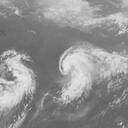cyclone: (58, 45, 110, 90)
